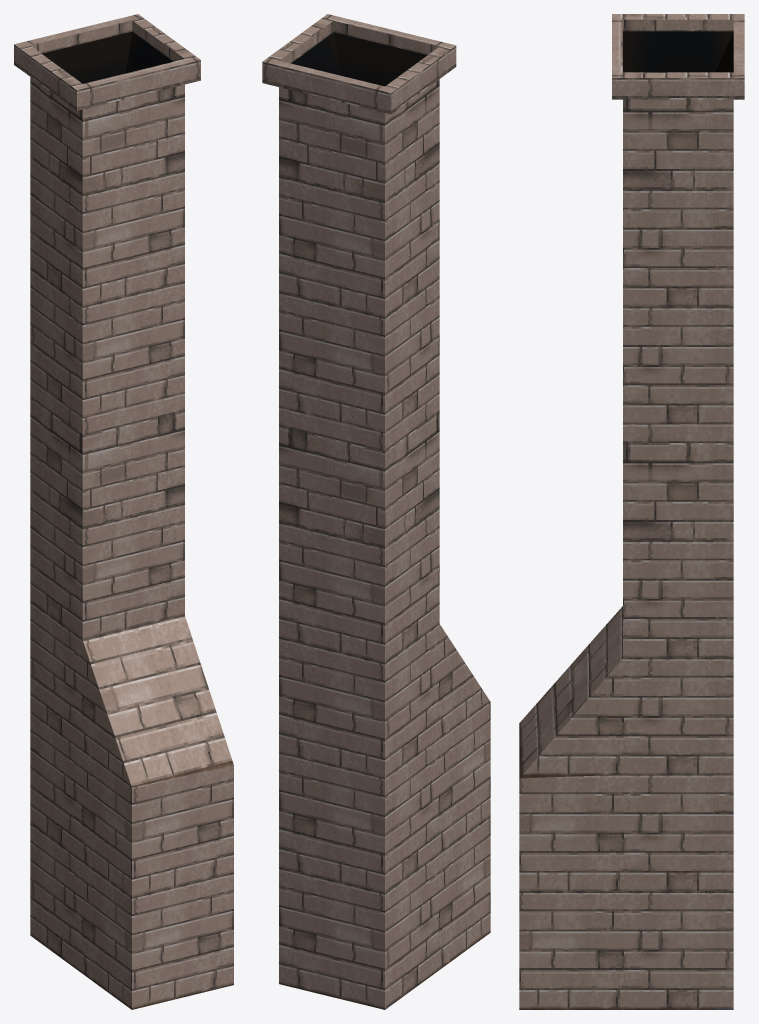
The model's file is chimney_large.glb.
3 views of the same model, side by side, from view 1: azimuth 30°, elevation 25°; view 2: azimuth 150°, elevation 25°; view 3: azimuth 270°, elevation 25° (orthographic). The views are drawn at different scales.
Parts seen in each view (by area): view 1: chimney_large; view 2: chimney_large; view 3: chimney_large.
Part boxes in pixels (<box>): chimney_large: <box>14,14,233,1009</box>; chimney_large: <box>262,14,490,1009</box>; chimney_large: <box>519,14,744,1009</box>.
Size of the model in its own units: 1.17 by 8 by 1.74.
Materials: 1 (1 with a texture image).
